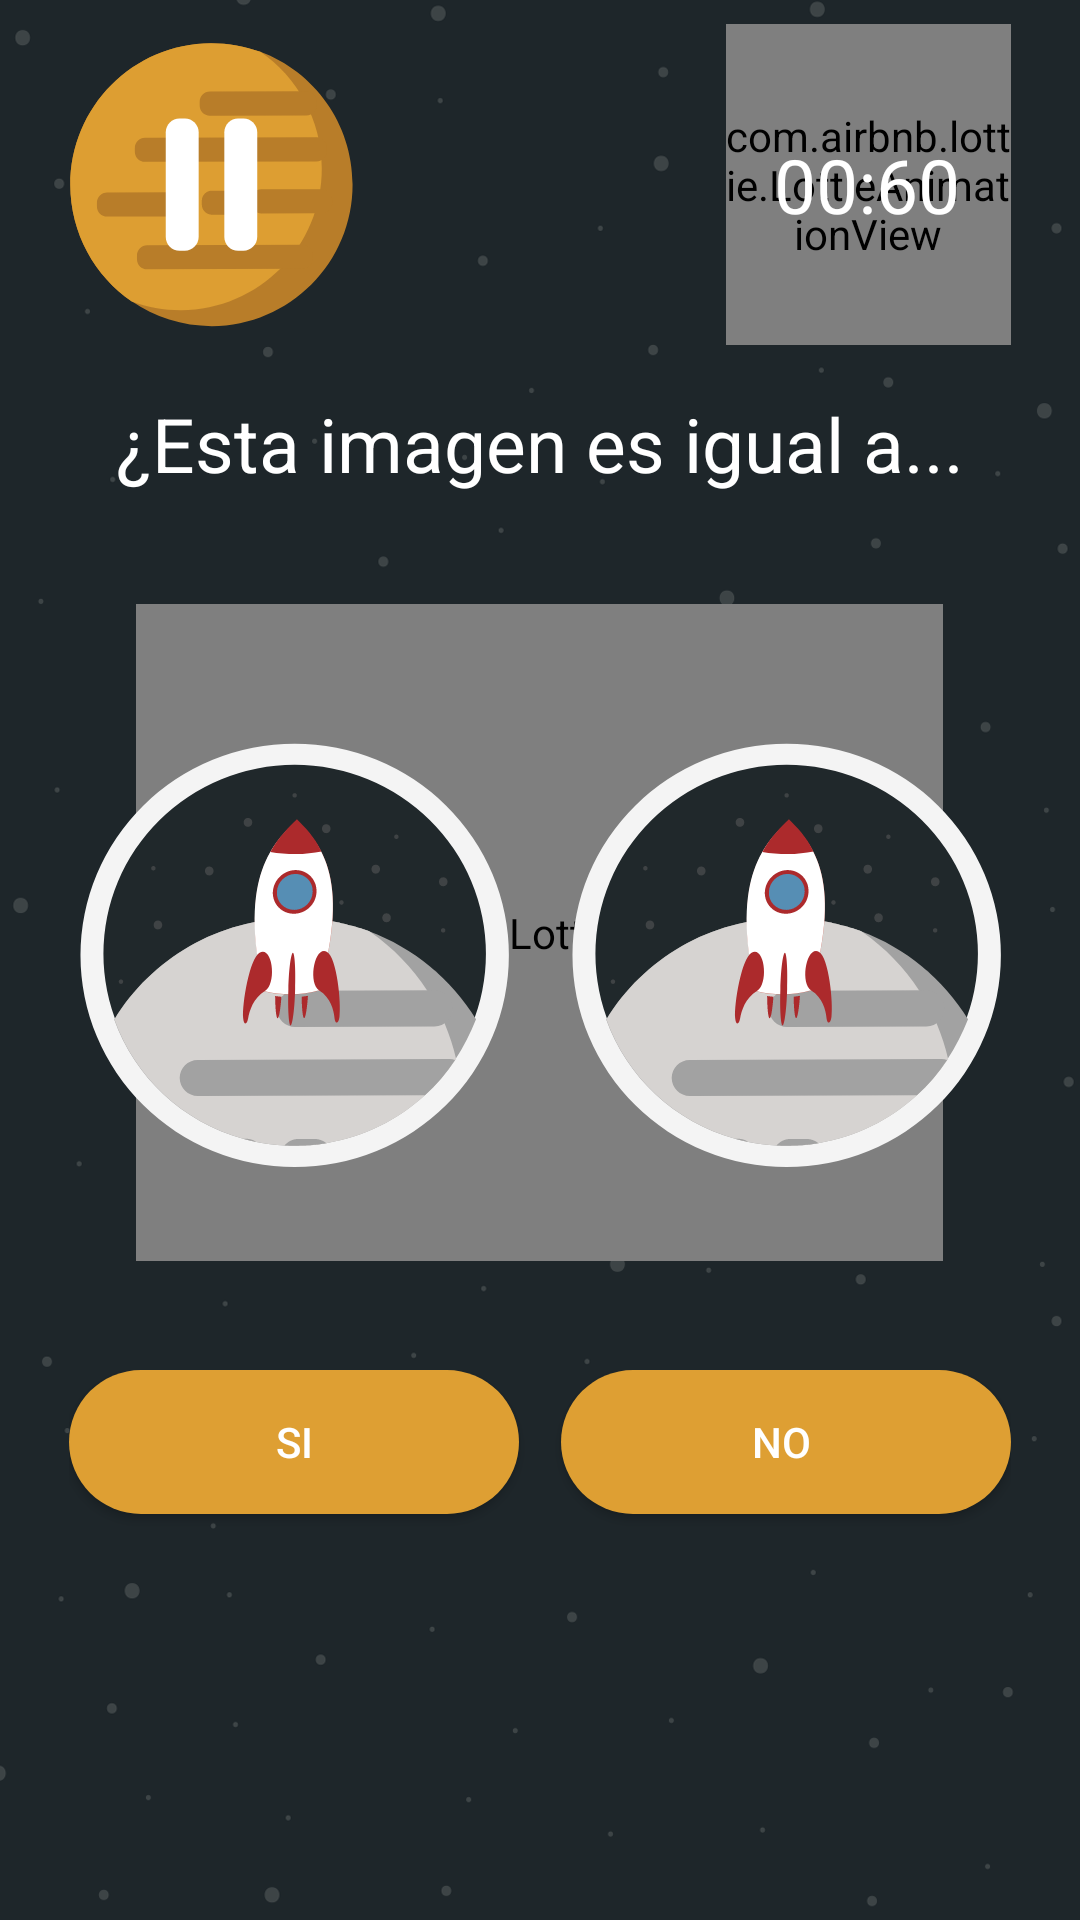

Icon click points for this 1080×1920 phone screenshot, format (x=x, y=y):
pausa: (x=211, y=185)
